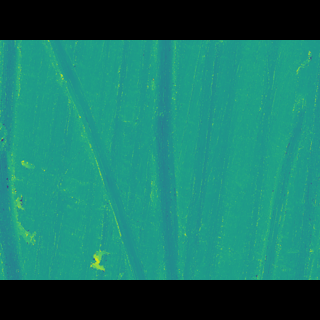Loch: (40, 69, 149, 249), (256, 110, 310, 250), (152, 69, 182, 249), (0, 69, 18, 251)
